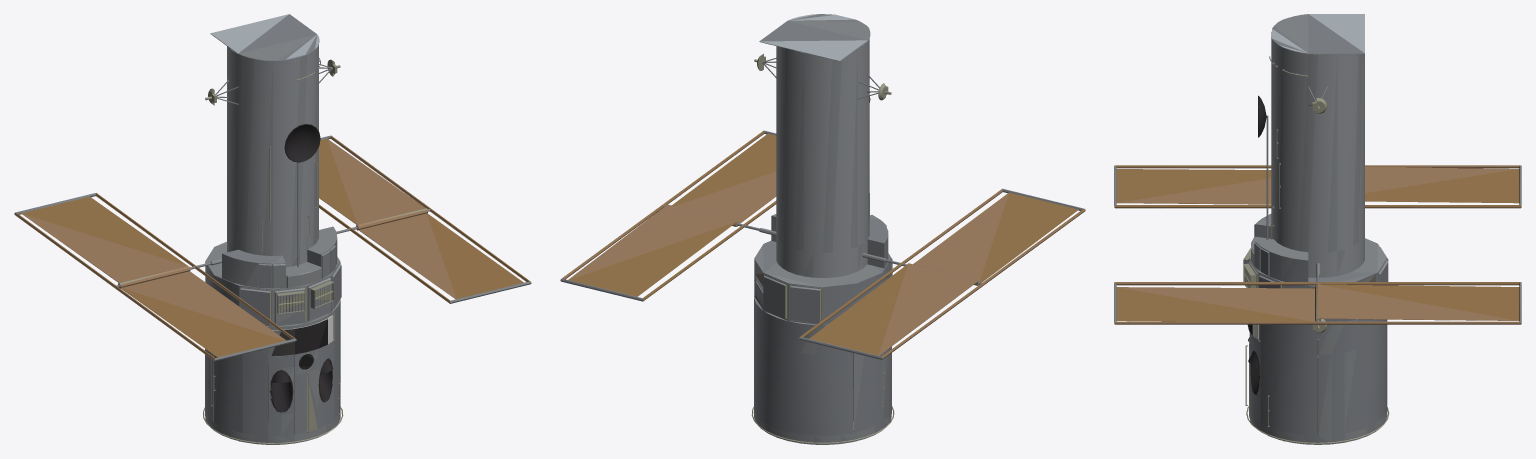
File: hubble.glb
3 renders of one model, left to right at view 1: azimuth 30°, elevation 25°; view 2: azimuth 150°, elevation 25°; view 3: azimuth 270°, elevation 25°, orthographic.
Visible parts, largest first — view 1: body, foil; view 2: body, foil; view 3: body, foil.
Part boxes in pixels (x1=…): body: x1=15, y1=14, x2=531, y2=444; foil: x1=14, y1=135, x2=530, y2=360; body: x1=560, y1=14, x2=1083, y2=444; foil: x1=561, y1=130, x2=1085, y2=359; body: x1=1114, y1=14, x2=1521, y2=444; foil: x1=1114, y1=165, x2=1521, y2=324.
Size of the model in its own units: 458 by 525 by 501.
